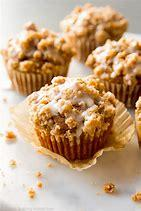muffin: (18, 75, 115, 165), (6, 24, 67, 85), (92, 34, 141, 101), (64, 2, 121, 51)
